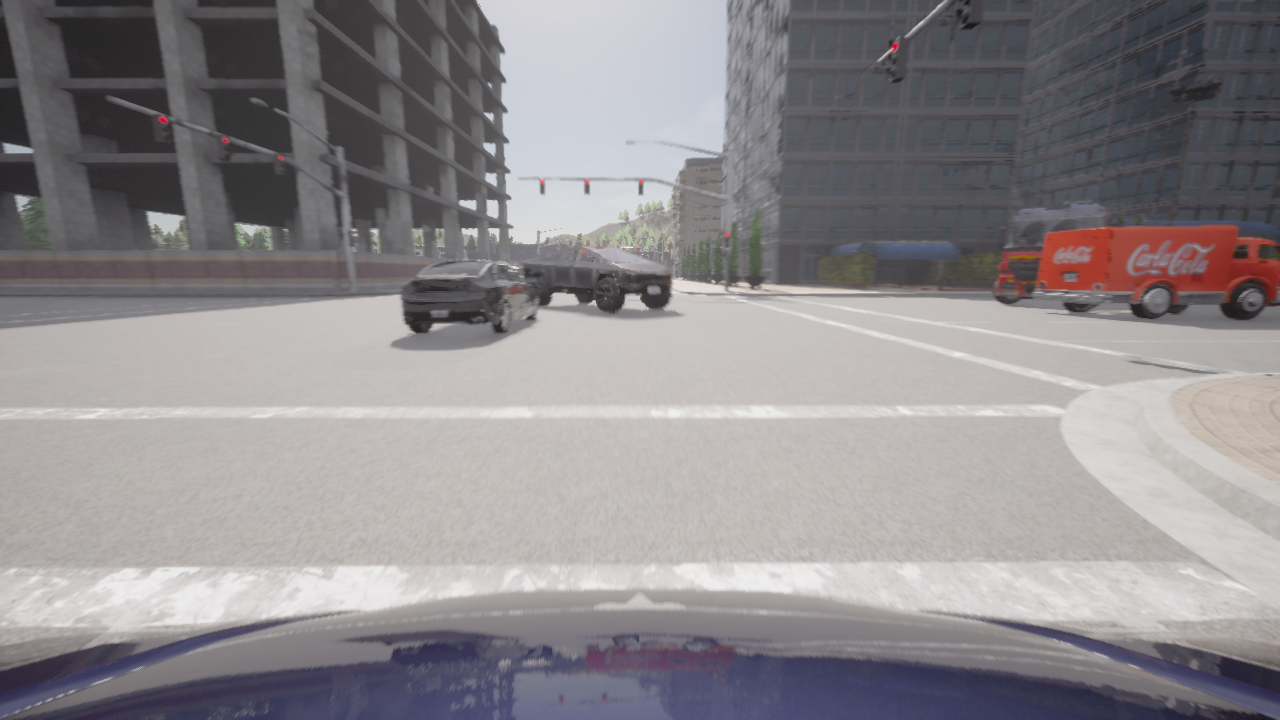cyclist: (0, 588, 1279, 719), (1033, 225, 1279, 319), (992, 199, 1120, 306), (401, 258, 538, 333), (522, 246, 672, 312), (514, 266, 523, 279)
